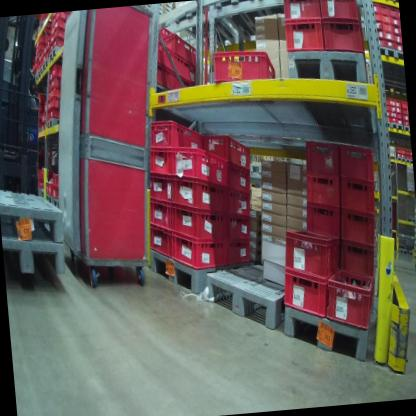pallet: (282, 40, 377, 148), (280, 296, 384, 376), (148, 240, 260, 312), (202, 262, 290, 341), (0, 184, 65, 250), (170, 0, 236, 54), (208, 0, 276, 52), (3, 234, 70, 281), (261, 0, 292, 29), (248, 160, 269, 179), (48, 46, 68, 64), (47, 117, 65, 131), (55, 196, 65, 217), (42, 57, 51, 74), (45, 194, 55, 209), (38, 65, 46, 81), (38, 191, 45, 202), (33, 73, 39, 84)
pallet_truck: (0, 16, 68, 293)
small_load_carrier: (280, 218, 348, 286), (210, 41, 286, 101), (324, 263, 385, 331), (167, 141, 232, 196), (279, 261, 334, 321), (168, 198, 230, 246), (147, 114, 208, 161), (170, 170, 225, 221), (170, 227, 228, 275), (200, 127, 253, 178), (301, 189, 346, 248), (336, 201, 381, 256), (297, 131, 343, 184), (319, 12, 368, 55), (335, 137, 377, 186), (336, 175, 375, 224), (282, 13, 323, 59), (337, 240, 379, 281), (304, 169, 343, 213), (319, 0, 364, 28), (145, 166, 175, 206), (147, 143, 176, 184), (145, 195, 174, 236), (172, 31, 202, 70), (147, 217, 175, 257), (227, 162, 253, 200), (225, 235, 253, 270), (225, 183, 252, 219), (282, 0, 322, 24), (226, 211, 254, 242), (155, 36, 176, 77), (174, 51, 197, 86), (151, 19, 177, 49), (171, 69, 197, 98), (154, 61, 175, 95), (50, 62, 63, 82), (51, 26, 67, 42), (50, 73, 65, 90), (47, 169, 59, 188), (48, 85, 63, 100), (48, 95, 63, 110), (53, 17, 68, 31), (49, 105, 63, 120), (44, 181, 55, 200), (52, 35, 66, 49), (51, 183, 62, 199), (36, 166, 46, 181), (40, 101, 52, 113), (55, 12, 68, 23), (35, 41, 46, 54), (37, 93, 48, 104), (37, 180, 46, 192), (41, 113, 49, 123)
